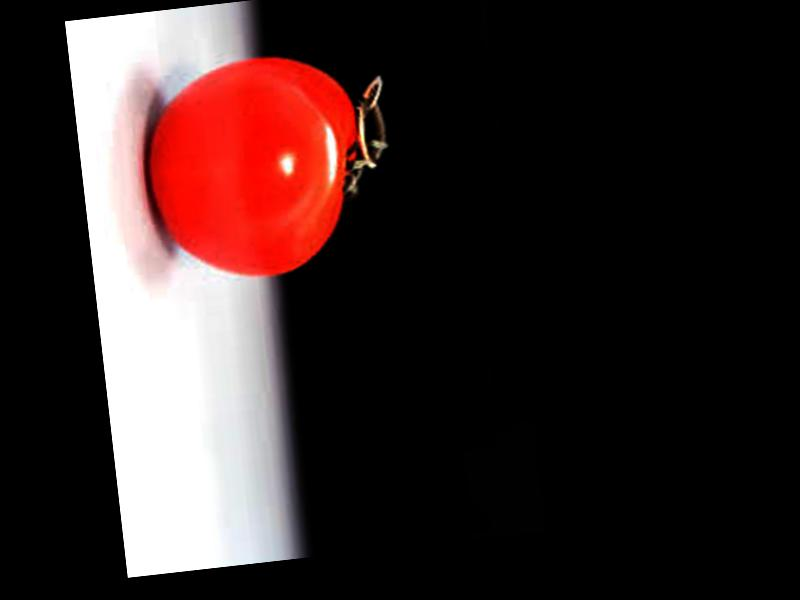Tomato: (137, 46, 373, 289)
